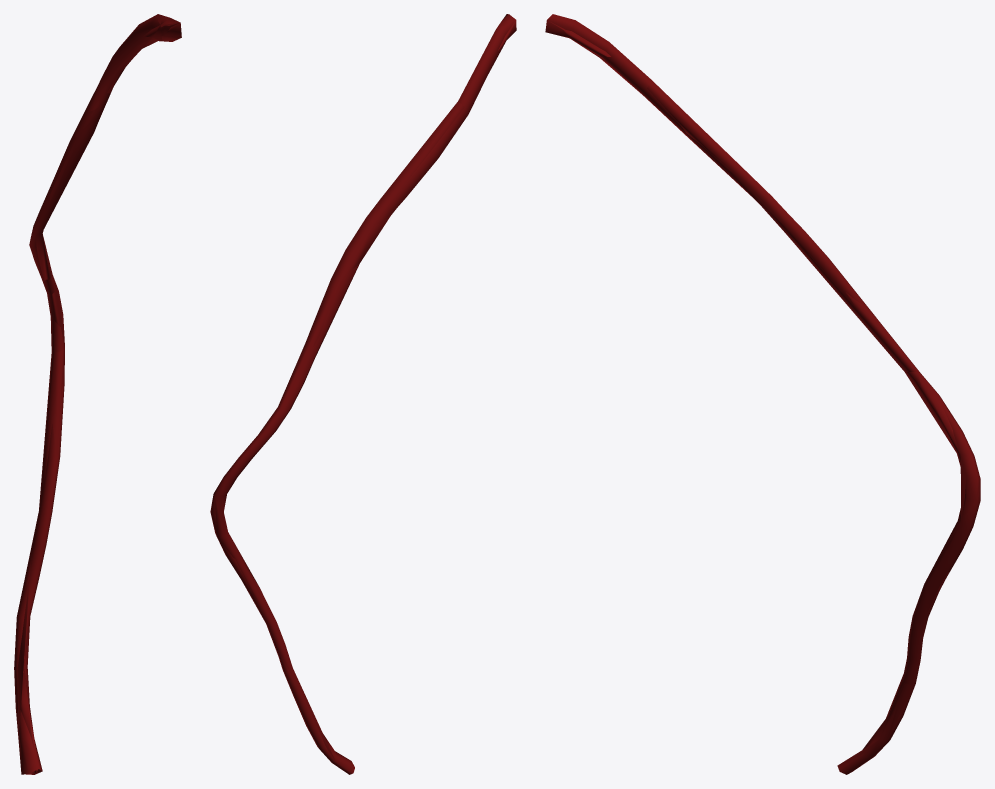
The model's file is L collateralis ulnaris.fbx.
The picture shows the model from 3 angles, left to right: view 1: azimuth 30°, elevation 25°; view 2: azimuth 150°, elevation 25°; view 3: azimuth 270°, elevation 25°; orthographic projection. The views are drawn at different scales.
Visible parts, largest first — view 1: L collateralis ulnaris, L collateralis ulnaris low; view 2: L collateralis ulnaris, L collateralis ulnaris low; view 3: L collateralis ulnaris, L collateralis ulnaris low.
Boxes of the visible parts, x1=… form: L collateralis ulnaris: x1=14, y1=14, x2=181, y2=774; L collateralis ulnaris low: x1=17, y1=14, x2=181, y2=774; L collateralis ulnaris: x1=210, y1=14, x2=516, y2=774; L collateralis ulnaris low: x1=210, y1=20, x2=515, y2=760; L collateralis ulnaris: x1=545, y1=14, x2=980, y2=774; L collateralis ulnaris low: x1=549, y1=21, x2=980, y2=764.
Size of the model in its own units: 3.55 by 19.61 by 10.39.
